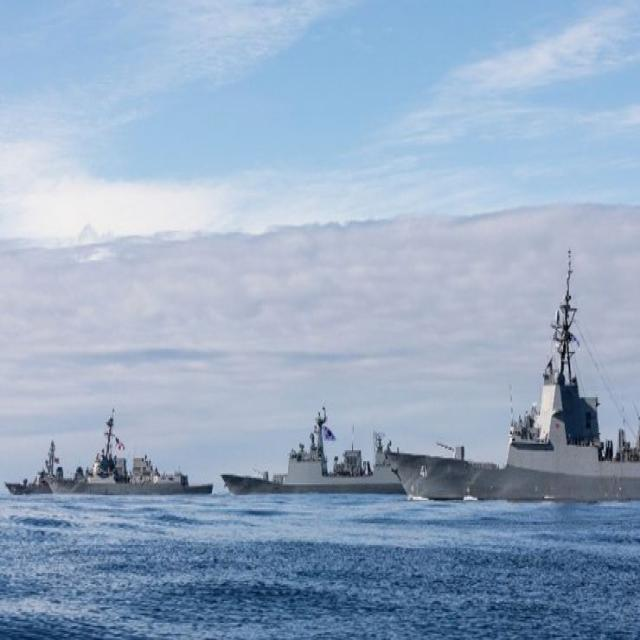navalvessels: (383, 281, 640, 505), (220, 408, 404, 502), (83, 411, 212, 499), (10, 428, 84, 499)
